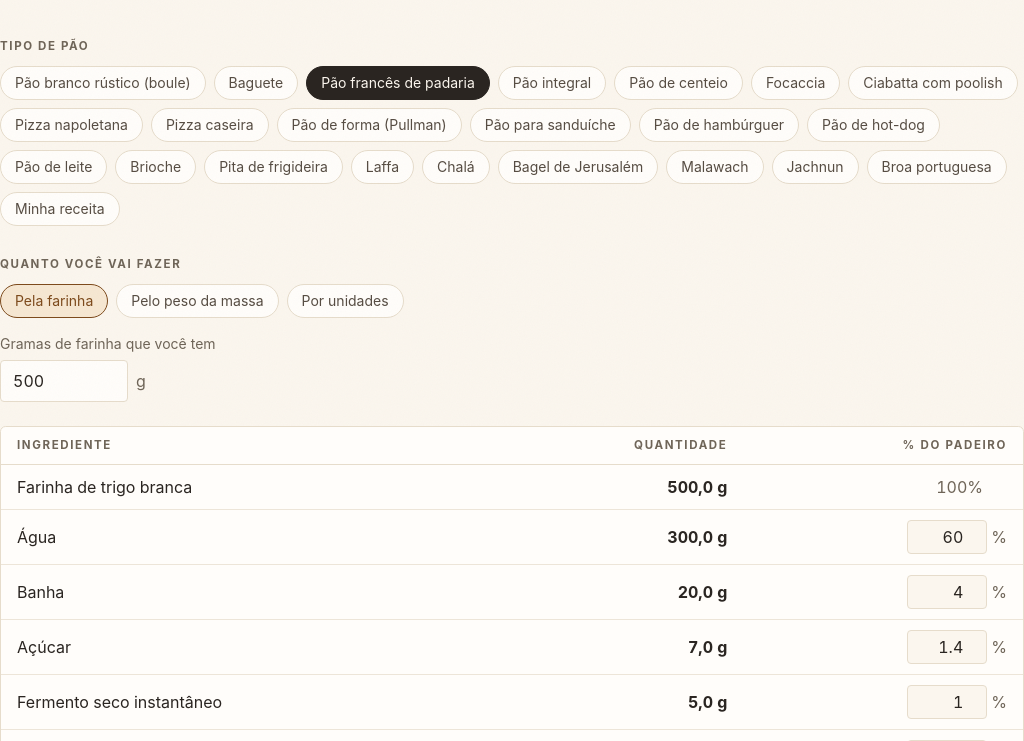
Test: calculadora de pães › avisa quando a hidratação sai da faixa das fontes
Step 1. Replace the text in the number field named "% do padeiro — Água" with "95" → (947, 537), box left=907, top=520, right=987, bottom=554
(page scrolled)
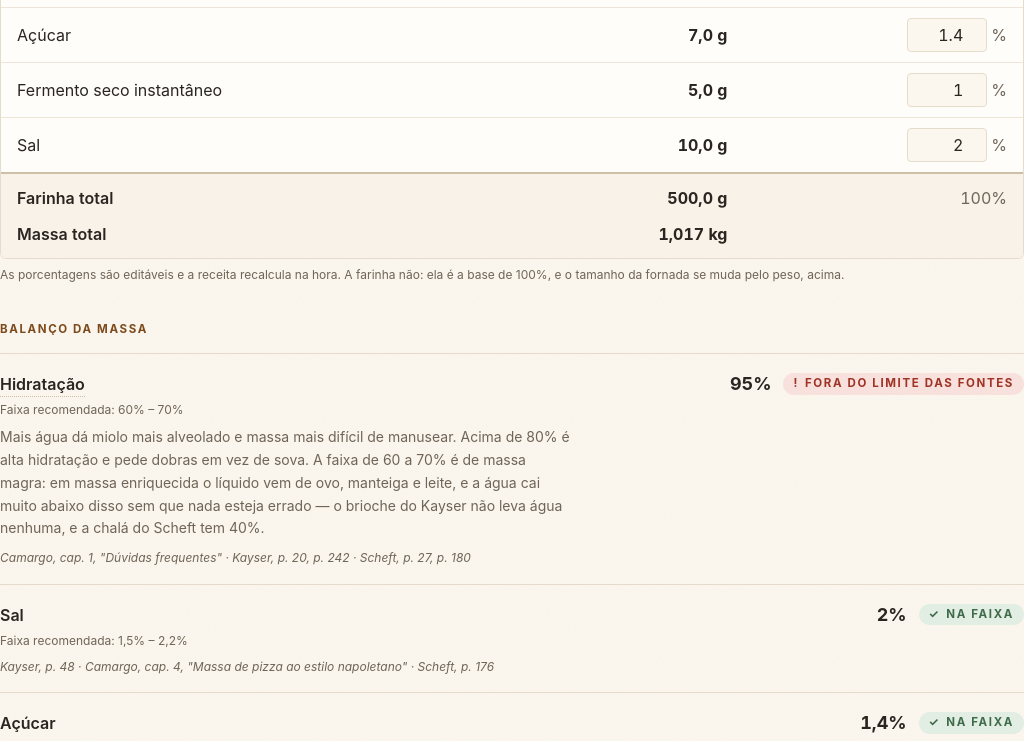
Check: the text "Fora do limite das fontes" is shown, box left=805, top=376, right=1014, bottom=390
